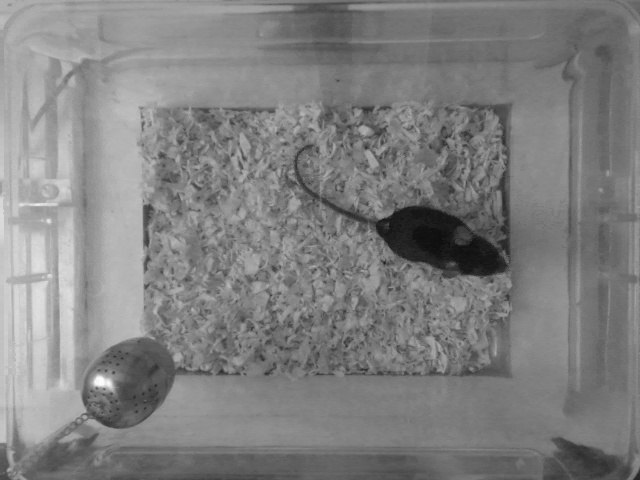mice: (291, 141, 512, 274)
